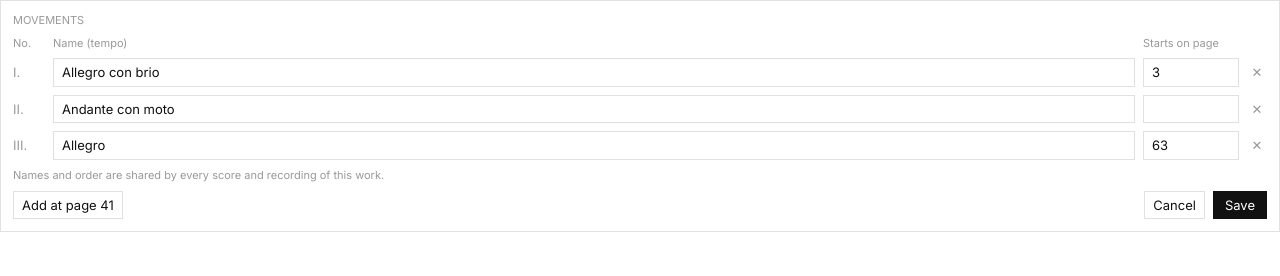
Scenario: ScoreMovementEditor › shows the server's error and stays open
Click the button "Save" at (1240, 205), box [1213, 191, 1267, 219]
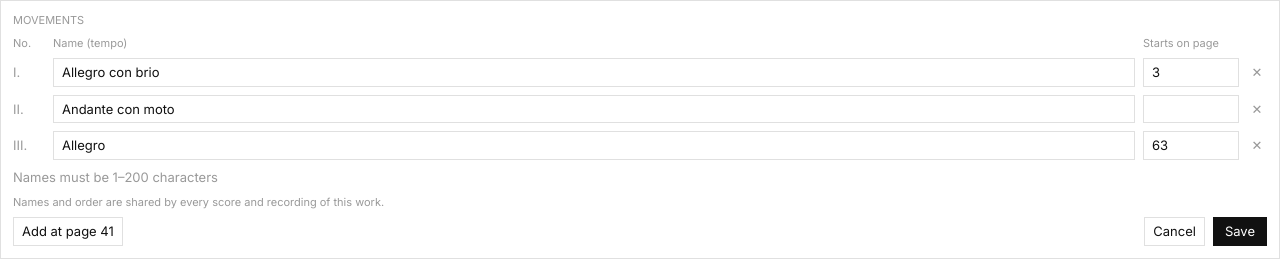
Check: the text "Names must be 1–200 characters" is shown, box [13, 169, 218, 185]
